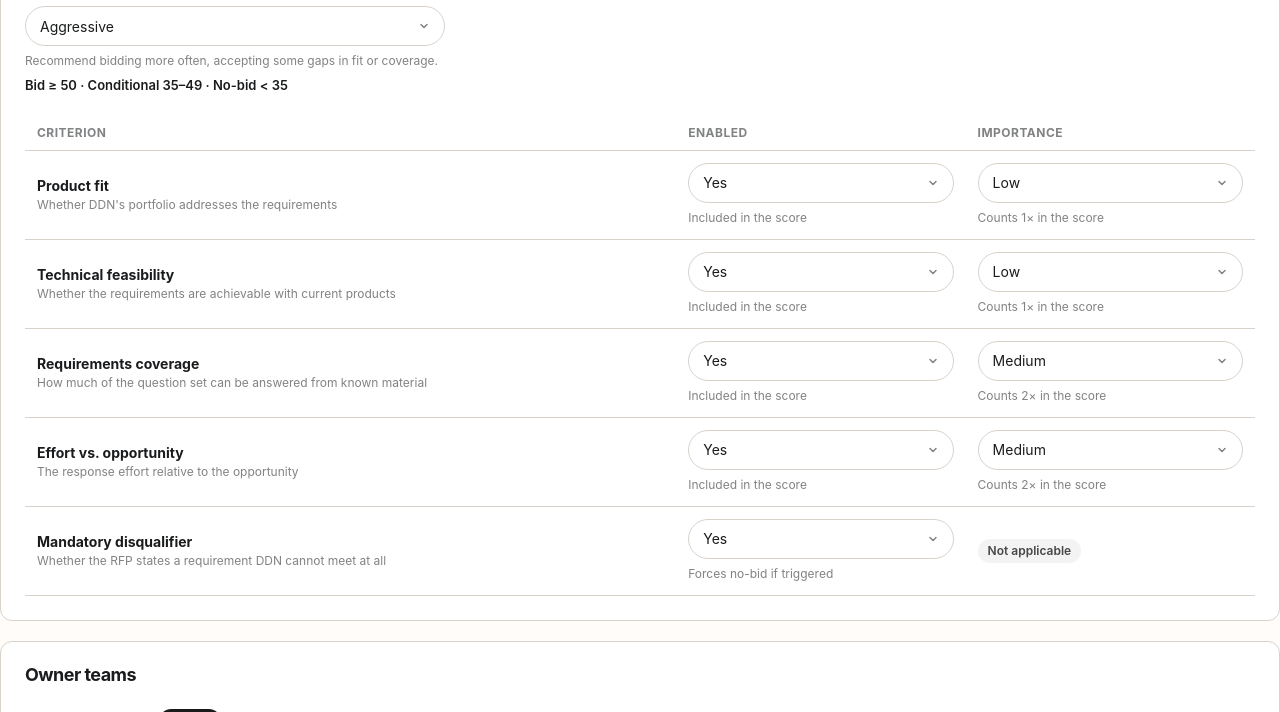
Test: Settings › disabling a criterion submits enabled: false
(page scrolled)
Expected: the text "Requirements coverage" is shown, [37, 355, 199, 372]
Click the dropdown named "Requirements coverage enabled": (715, 361) [688, 341, 954, 381]
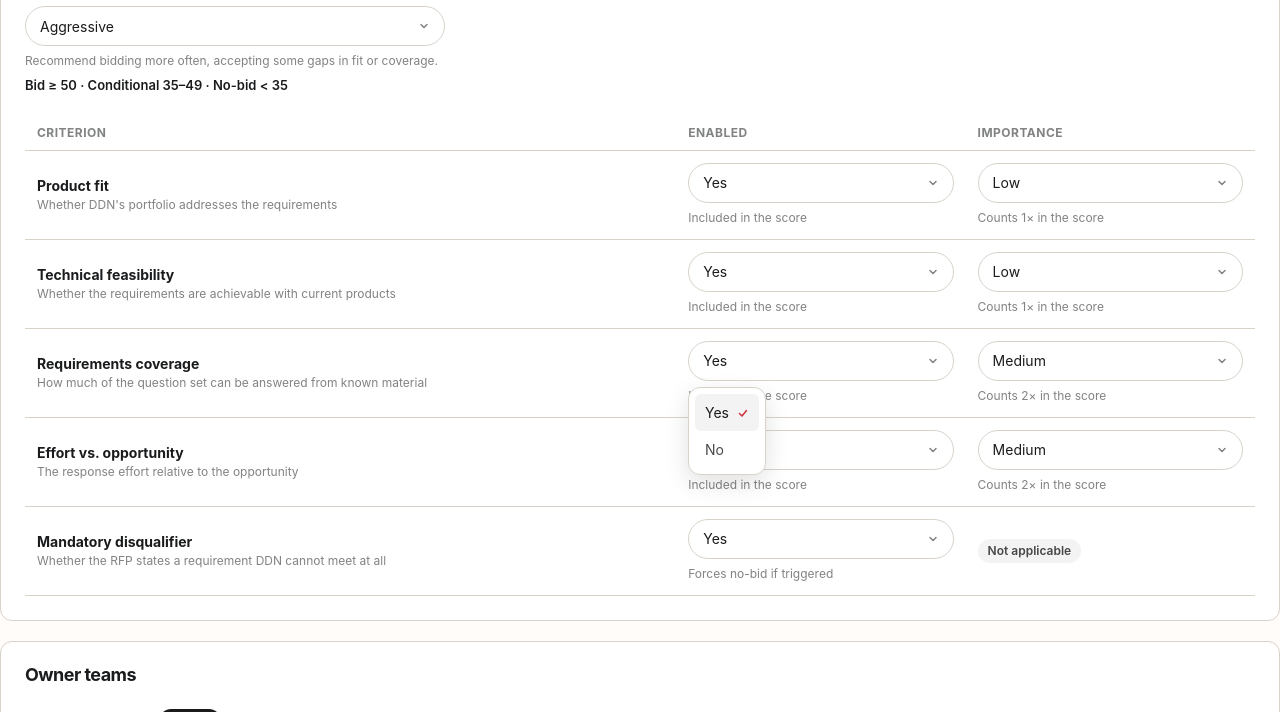
Click the option "No": (714, 450) [705, 441, 724, 458]
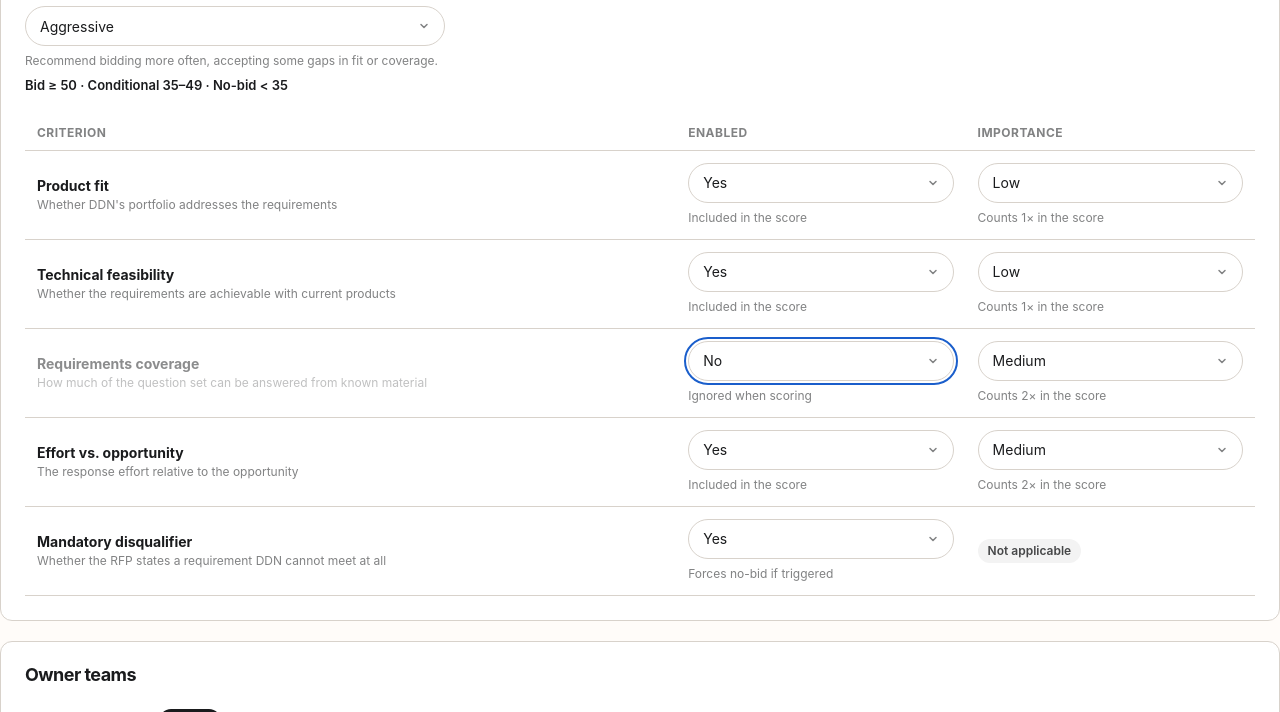
Now the dropdown named "Requirements coverage enabled" reads "No", box [688, 341, 954, 381]
